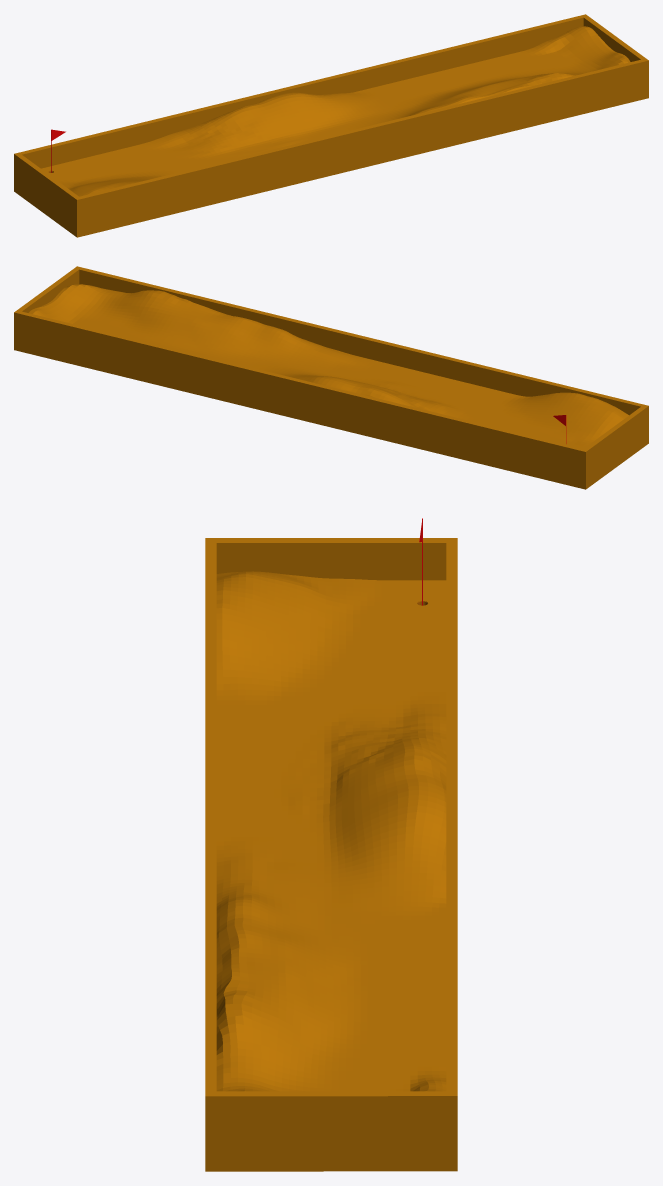
File: level_15.glb
3 views of the same model, one above another, from view 1: azimuth 30°, elevation 25°; view 2: azimuth 150°, elevation 25°; view 3: azimuth 270°, elevation 25° (orthographic). The views are drawn at different scales.
Visible parts, largest first — view 1: green; view 2: green; view 3: green.
Boxes of the visible parts, x1,y1,x2,y2 form: green: (14,14,648,237); green: (14,266,648,489); green: (205,538,457,1171).
Size of the model in its own units: 11.5 by 1.18 by 2.2.
